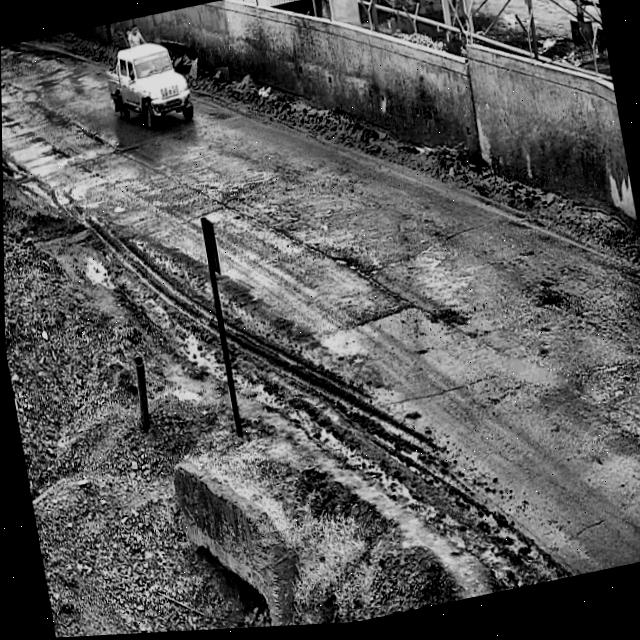light_vehicle: (95, 11, 198, 159)
